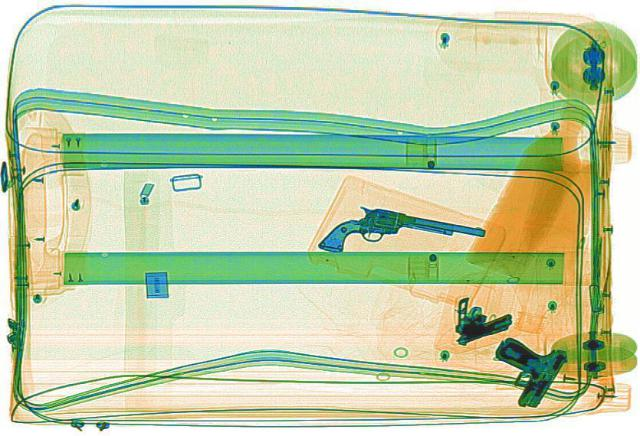Gun: (314, 192, 488, 280), (472, 326, 598, 413), (432, 289, 520, 350)
